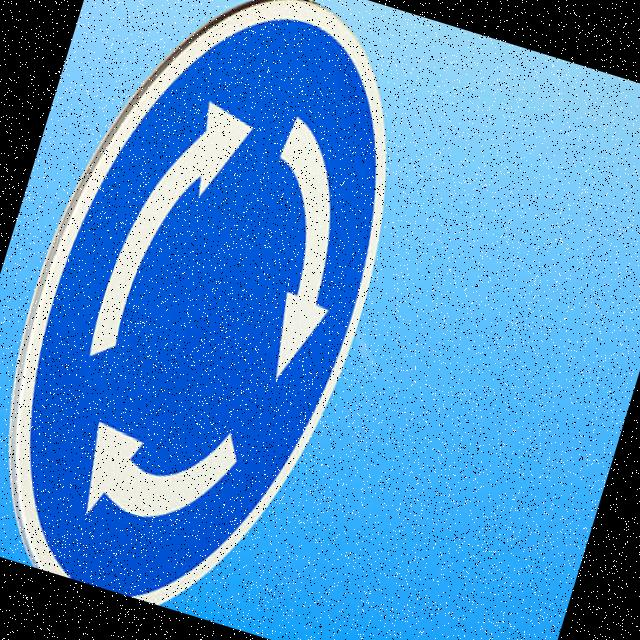round_about: (0, 0, 451, 639)
